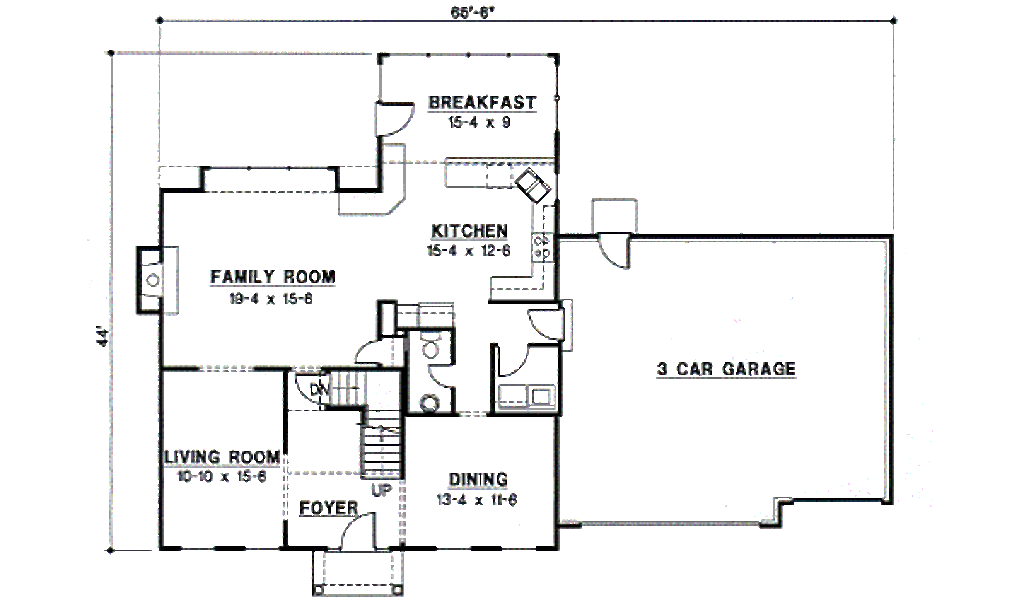door: (333, 510, 376, 553), (375, 97, 416, 138), (595, 230, 631, 273), (524, 302, 563, 341), (497, 341, 531, 379), (352, 336, 382, 368), (424, 360, 455, 387)
large_sink: (416, 328, 446, 361)
stairs: (313, 368, 400, 480)
twin_sink: (507, 168, 550, 204)
